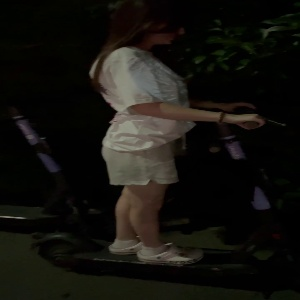human on a scooter: (25, 1, 300, 287)
